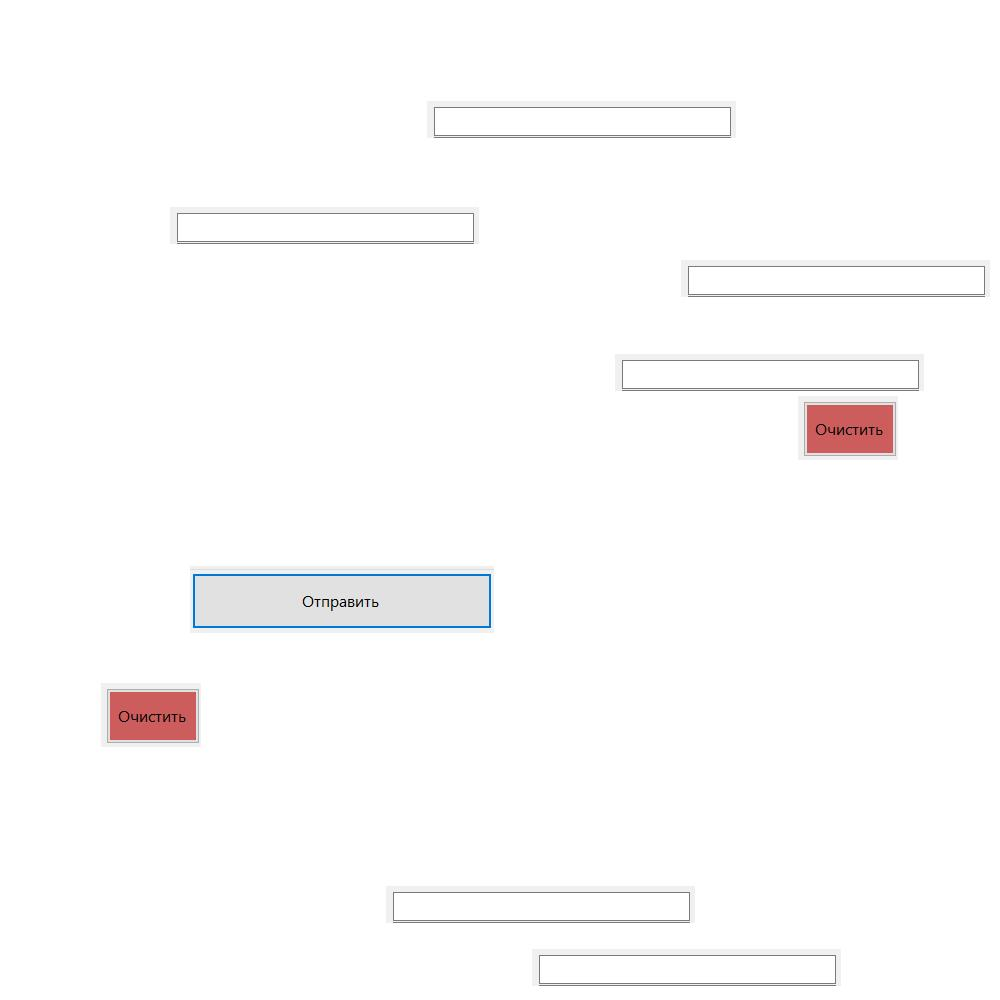Button: (190, 566, 494, 633), (101, 683, 201, 747), (798, 396, 898, 460)
EditText-: (532, 949, 841, 986), (615, 354, 924, 391), (386, 886, 695, 923), (681, 260, 990, 297), (170, 207, 479, 244), (427, 101, 736, 138)
